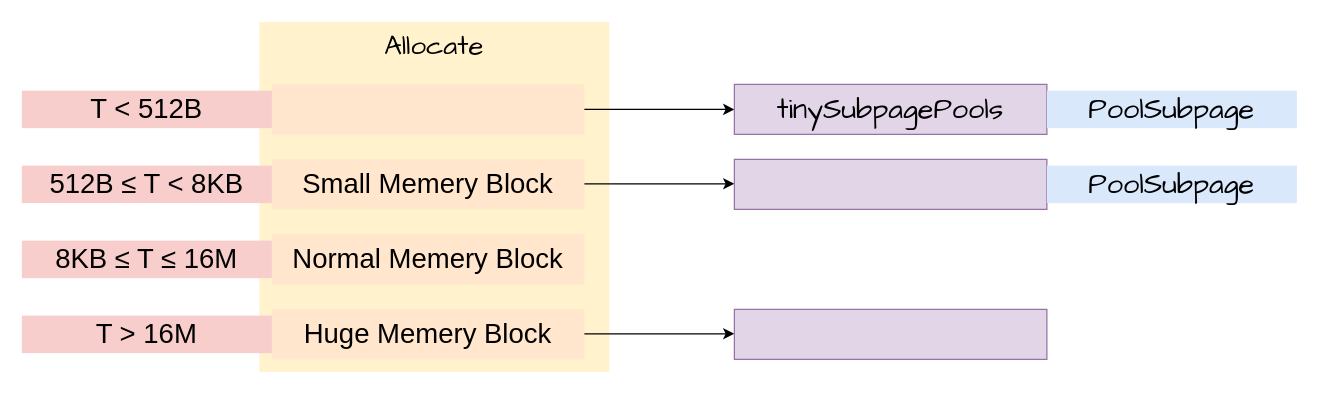
The diagram is 1318 pixels wide and 393 high, and some of its shapes have lost their labels. The box of each missing label's shape, as (x1, y1, x2, y2) in pixels:
smallSubpagePools: (733, 158, 1047, 209)
Tiny Memery Block: (271, 84, 584, 134)
Unpooled: (733, 308, 1047, 359)
